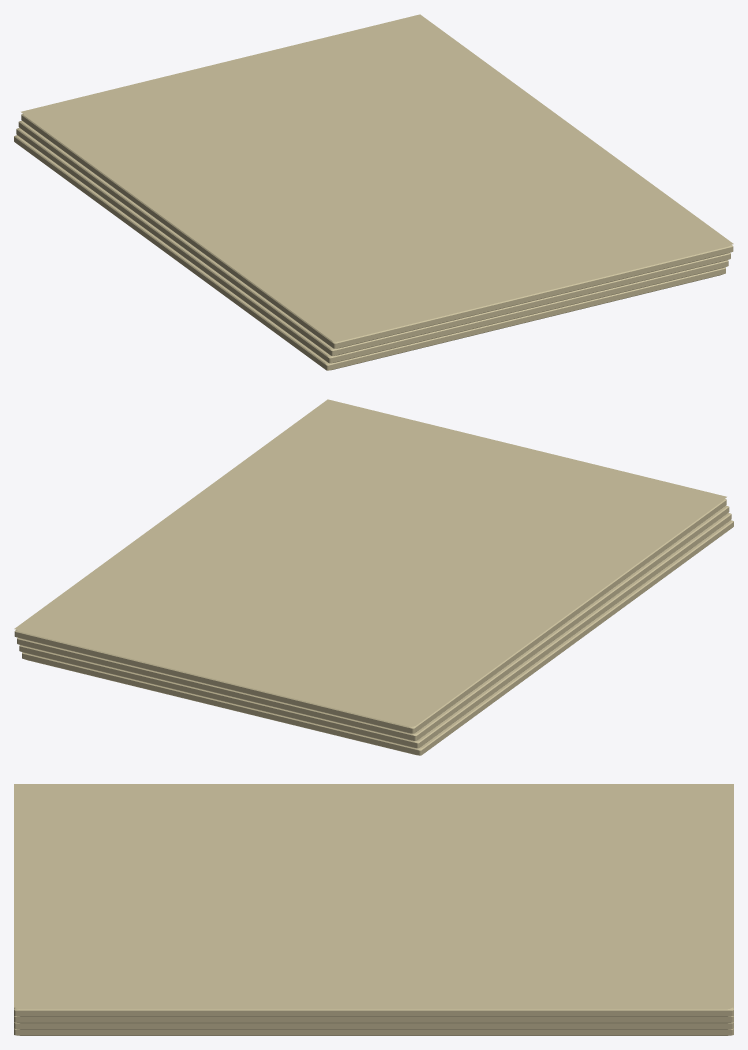
File: folded_newspaper.obj
3 views of the same model, one above another, from view 1: azimuth 30°, elevation 25°; view 2: azimuth 150°, elevation 25°; view 3: azimuth 270°, elevation 25° (orthographic). The views are drawn at different scales.
Parts seen in each view (by area): view 1: printed_face, folded_pages; view 2: printed_face, folded_pages; view 3: printed_face, folded_pages.
Boxes of the visible parts, x1,y1,x2,y2 form: printed_face: (21, 14, 733, 341); folded_pages: (14, 114, 733, 370); printed_face: (14, 399, 726, 726); folded_pages: (14, 499, 733, 755); printed_face: (14, 784, 733, 1007); folded_pages: (14, 1007, 733, 1035).
Bounding box in the file's own units: 0.2545 × 0.017 × 0.34.
